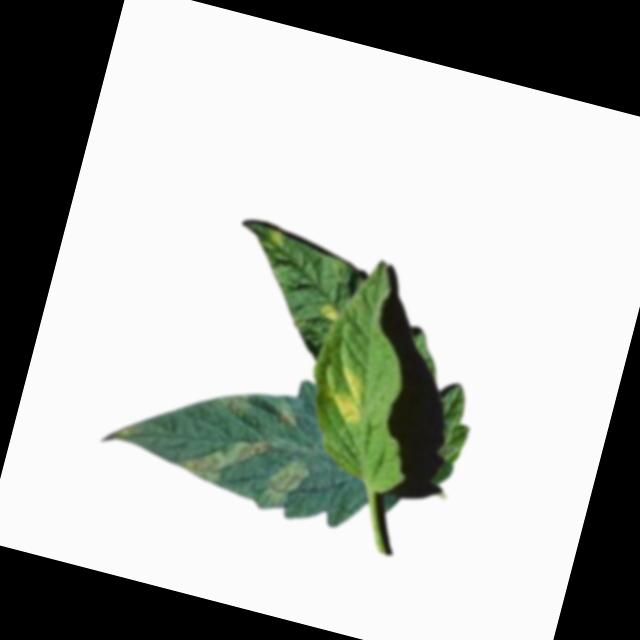Leaf_Mold: (172, 416, 273, 495), (261, 453, 312, 515), (331, 366, 375, 424), (214, 382, 255, 421), (275, 406, 302, 431), (317, 301, 343, 324)
